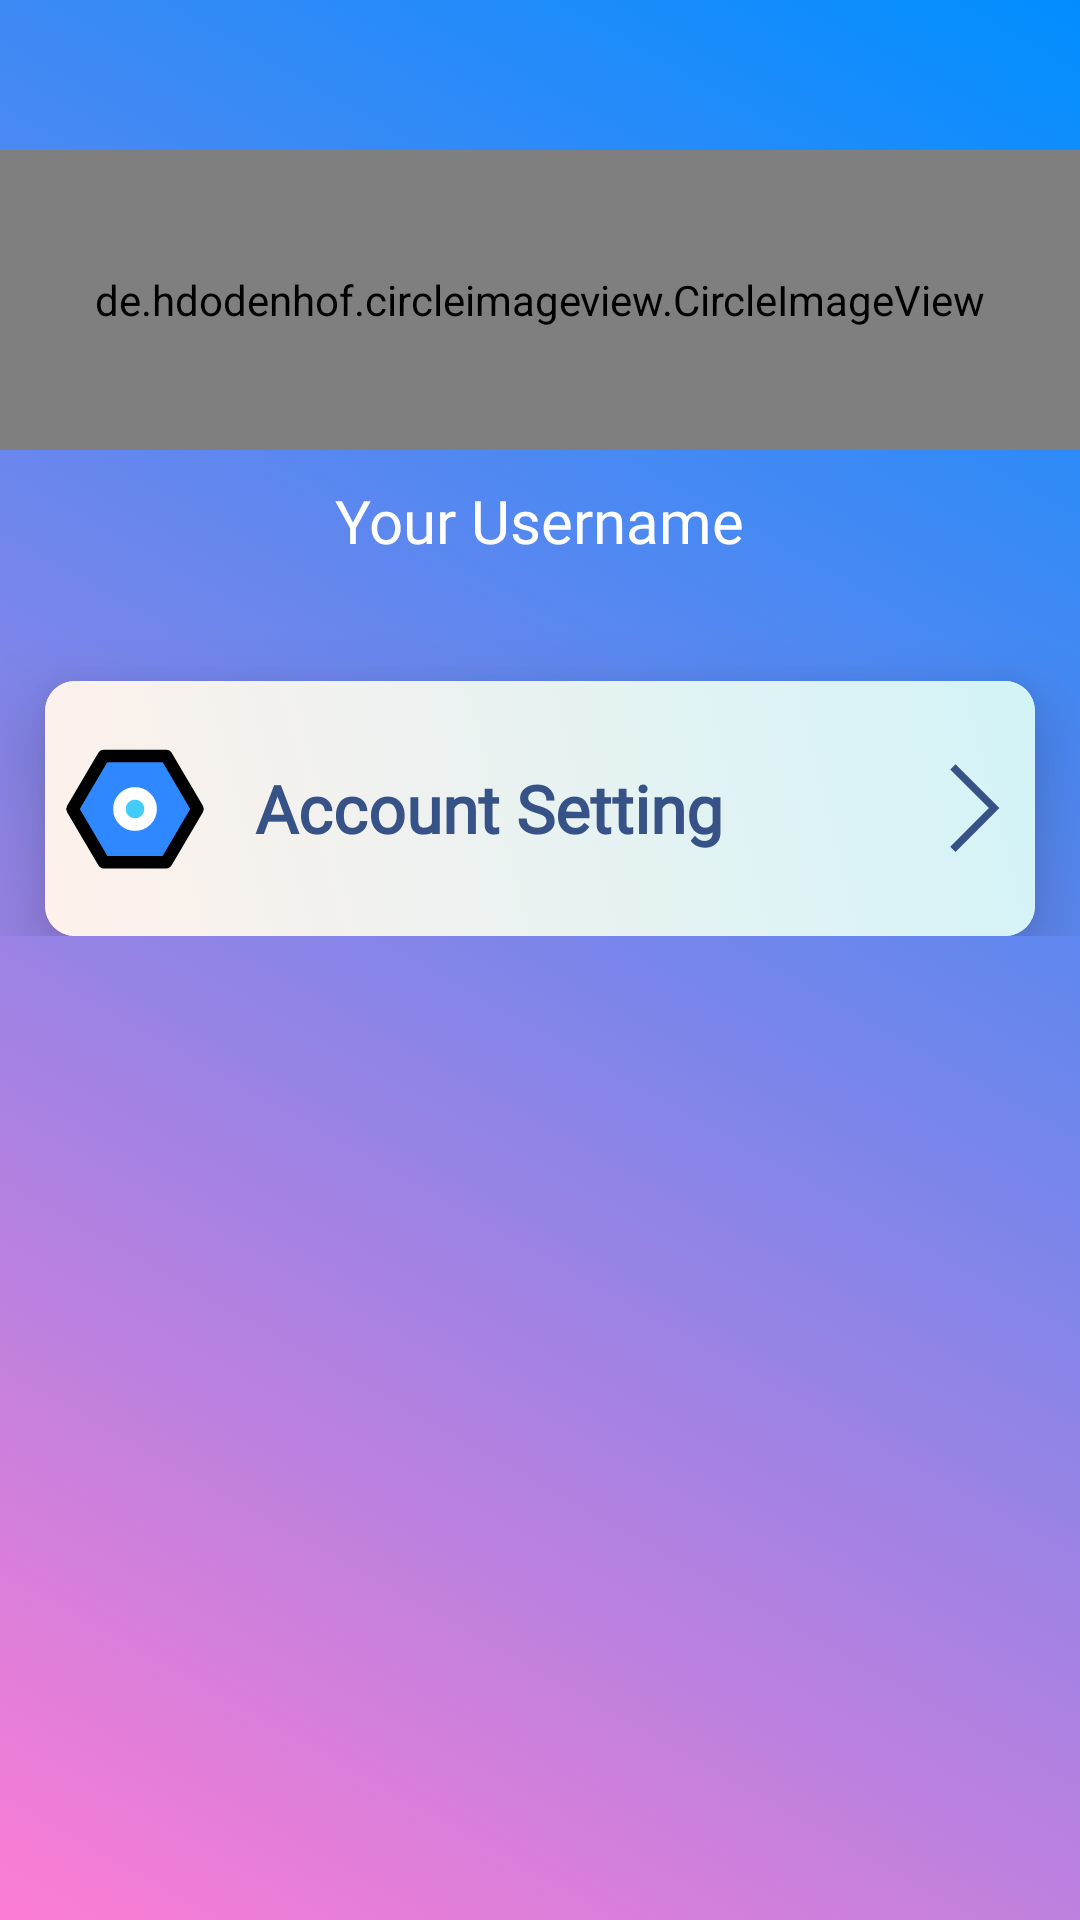

Where to tap for icons on this 1080×1920 app screen, as [x,y]:
next: [974,808]
setting one: [135,808]
